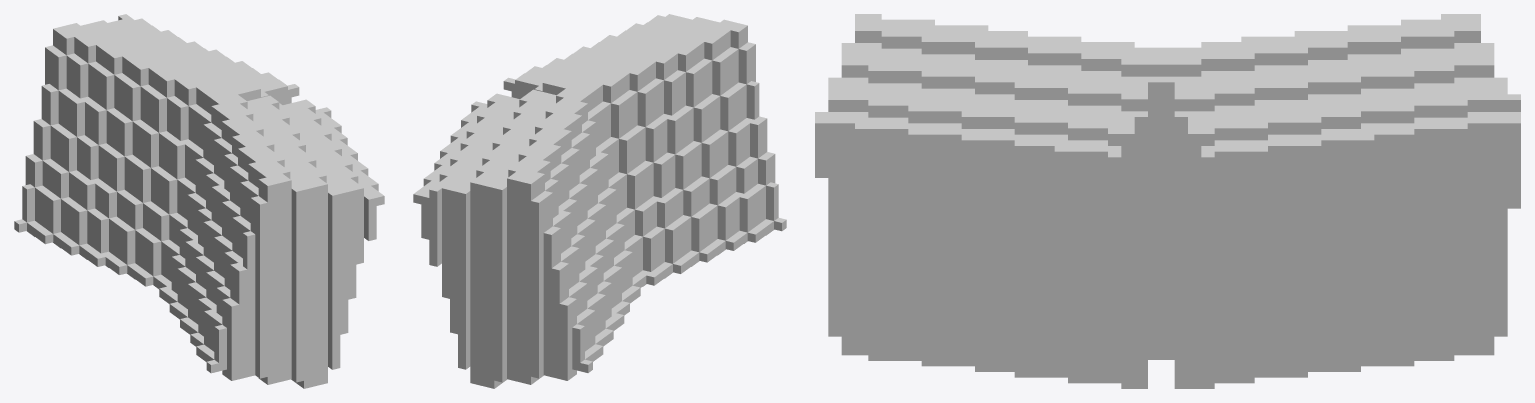
Rendered from goodnight-moon-23.obj.
3 views of the same model, side by side, from view 1: azimuth 30°, elevation 25°; view 2: azimuth 150°, elevation 25°; view 3: azimuth 270°, elevation 25° (orthographic). The views are drawn at different scales.
Bounding box in the file's own units: 2.5 × 2.5 × 5.3.
Materials: 1 (1 with a texture image).
